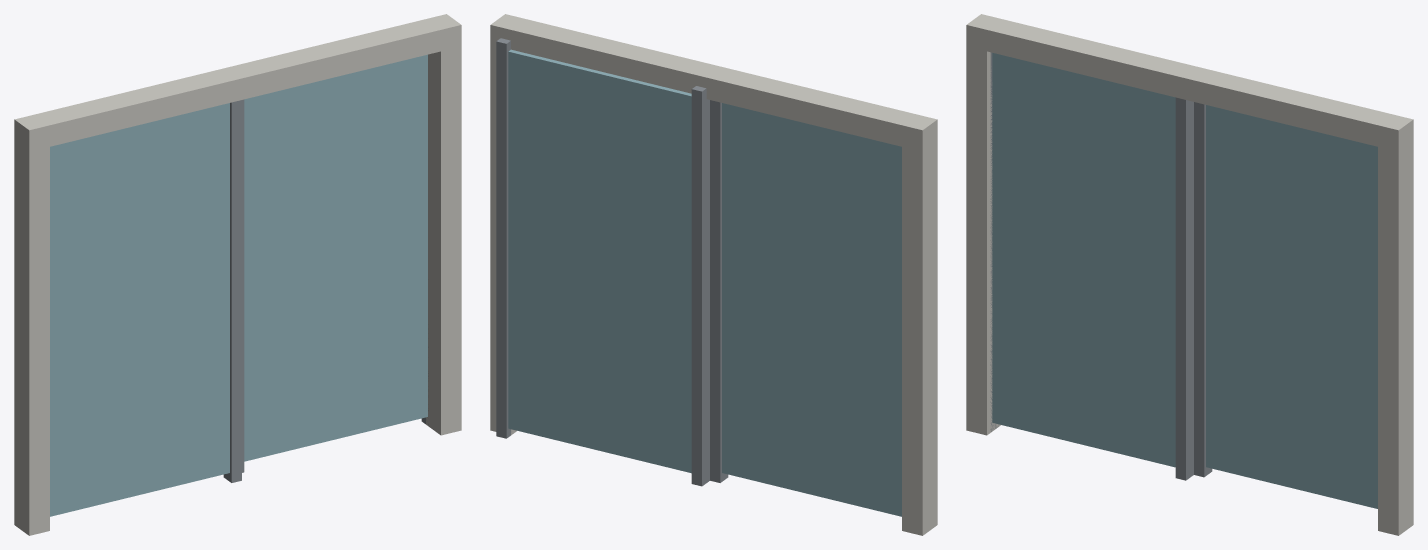
Rendered from sliding_glass_door.glb.
3 renders of one model, left to right at view 1: azimuth 30°, elevation 25°; view 2: azimuth 150°, elevation 25°; view 3: azimuth 330°, elevation 25°, orthographic.
Visible parts, largest first — view 1: world; view 2: world; view 3: world.
Part boxes in pixels (x1,y1,x2,y2): world: (14,14,461,535); world: (490,14,937,535); world: (966,14,1413,535).
Bounding box in the file's own units: 2.52 × 2.26 × 0.195.
